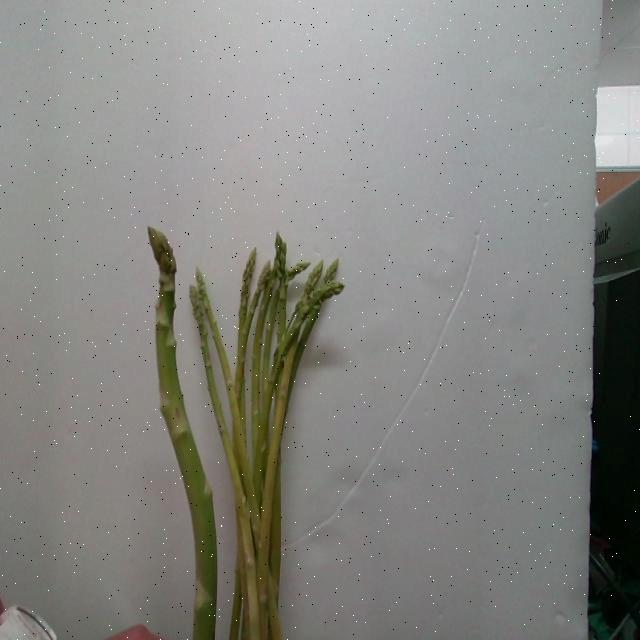aspargus: (146, 230, 216, 640)
